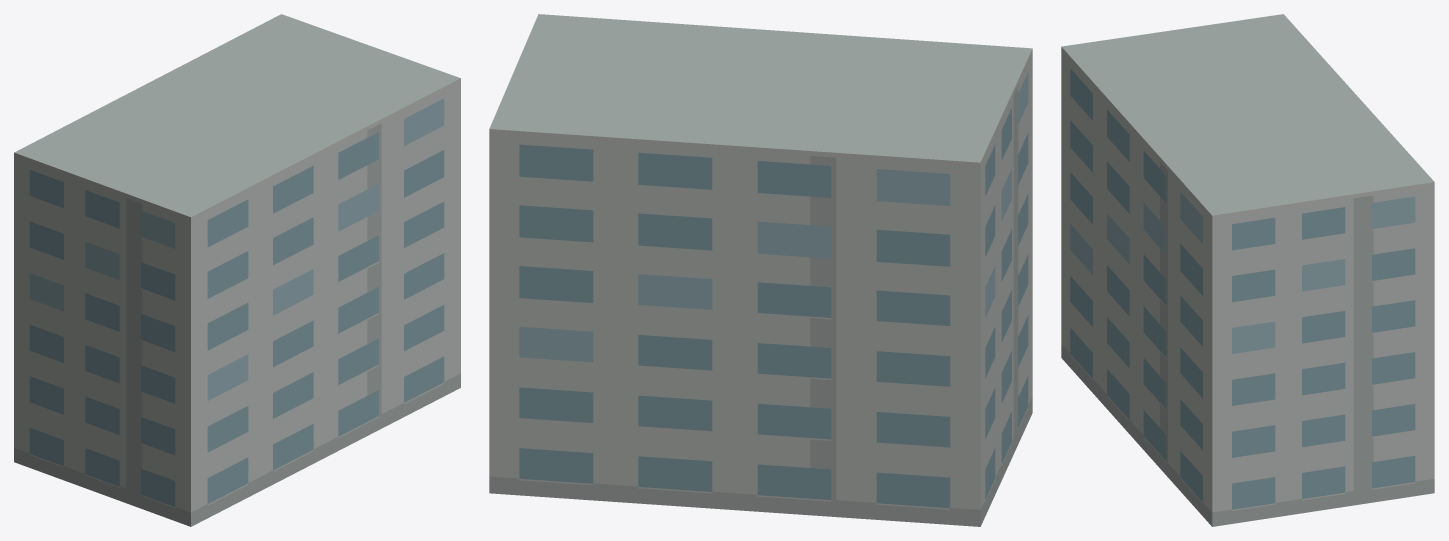
File: survey-upis-32859547.glb
The picture shows the model from 3 angles, left to right: view 1: azimuth 30°, elevation 25°; view 2: azimuth 150°, elevation 25°; view 3: azimuth 270°, elevation 25°; orthographic projection. The views are drawn at different scales.
Visible parts, largest first — view 1: survey-upis-32859547.tmp; view 2: survey-upis-32859547.tmp; view 3: survey-upis-32859547.tmp.
Part boxes in pixels (left/top/right/bottom): survey-upis-32859547.tmp: left=14, top=14, right=460, bottom=526; survey-upis-32859547.tmp: left=489, top=14, right=1032, bottom=526; survey-upis-32859547.tmp: left=1061, top=14, right=1434, bottom=526.
Bounding box in the file's own units: 25.45 × 18.3 × 19.91.
